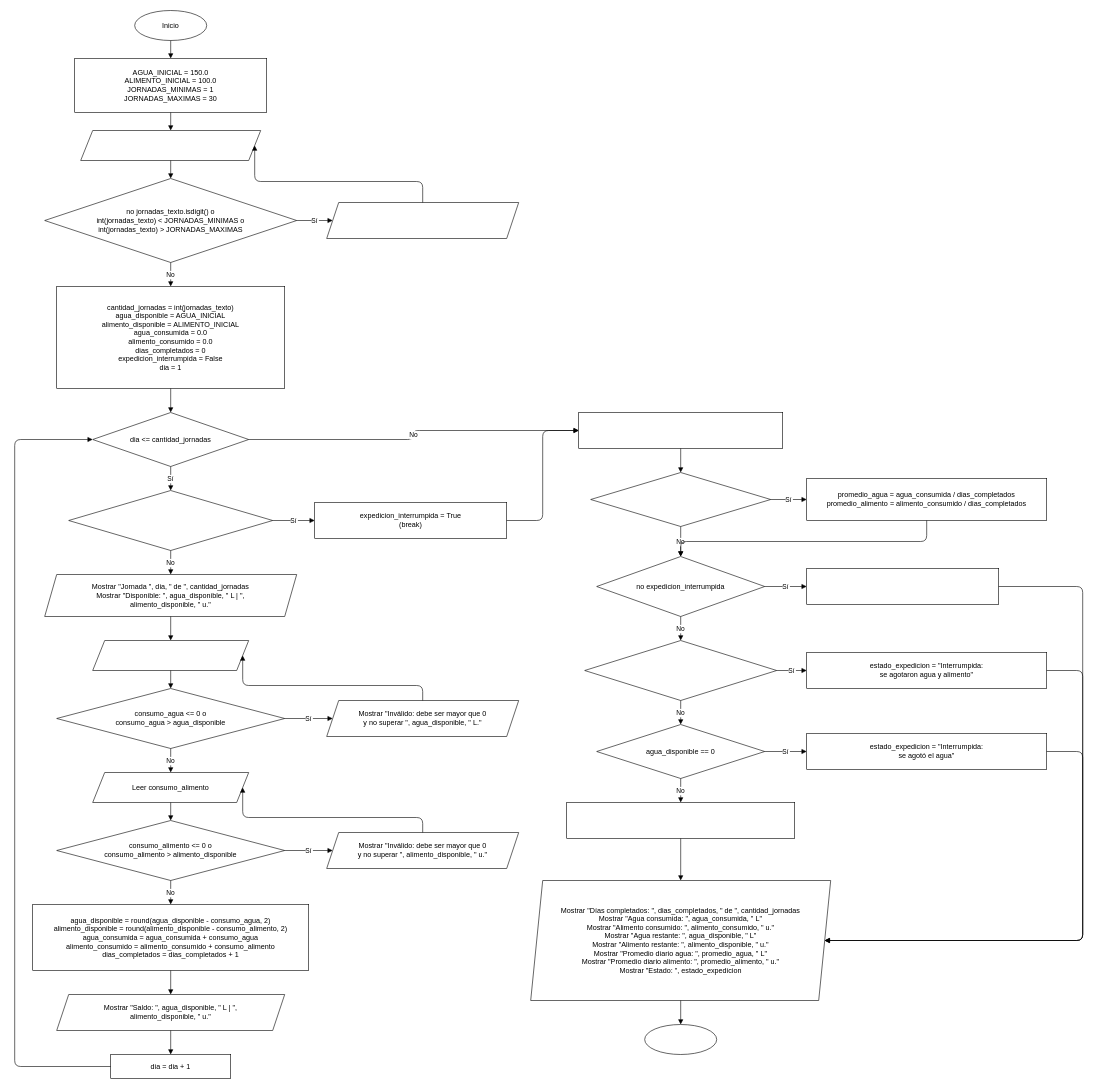
The diagram is 1098 pixels wide and 1089 high, and some of its shapes have lost their labels. Here are the shapes that lost their labels. From the top down, the centre of each, then its label:
point (170, 145): Leer jornadas_texto
point (422, 220): Mostrar "Debe ser un entero entre ", JORNADAS_MINIMAS, " y ", JORNADAS_MAXIMAS
point (680, 430): promedio_agua = 0.0 promedio_alimento = 0.0
point (680, 499): dias_completados > 0
point (170, 520): agua_disponible == 0 o alimento_disponible == 0
point (902, 586): estado_expedicion = "Completada"
point (170, 655): Leer consumo_agua
point (680, 670): agua_disponible == 0 y alimento_disponible == 0
point (680, 820): estado_expedicion = "Interrumpida: se agotó el alimento"
point (680, 1039): Fin
